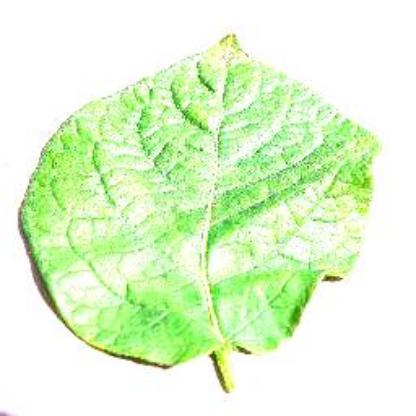Healthy-plant: (17, 29, 389, 394)
